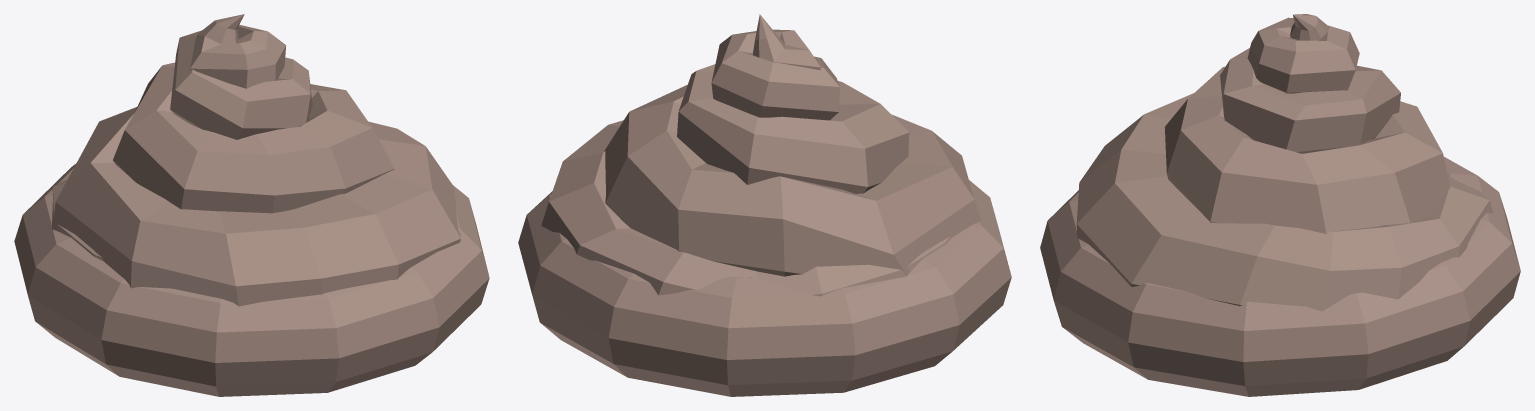
File: poop.fbx
3 renders of one model, left to right at view 1: azimuth 30°, elevation 25°; view 2: azimuth 150°, elevation 25°; view 3: azimuth 270°, elevation 25°, orthographic. The views are drawn at different scales.
Parts seen in each view (by area): view 1: mesh_1709975647; view 2: mesh_1709975647; view 3: mesh_1709975647.
Boxes of the visible parts, bbox=[...] form: mesh_1709975647: bbox=[14, 14, 489, 396]; mesh_1709975647: bbox=[518, 14, 1011, 396]; mesh_1709975647: bbox=[1040, 14, 1520, 396].
Size of the model in its own units: 147 by 105 by 147.
